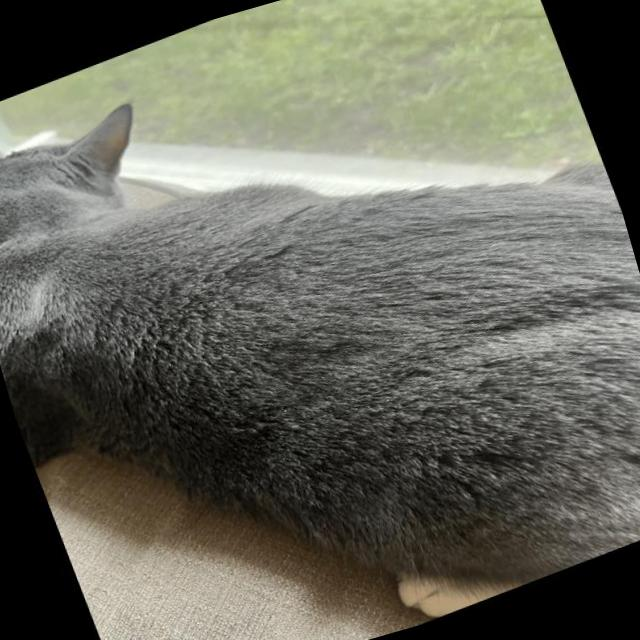Healthy skin: (298, 198, 640, 513), (19, 198, 255, 384), (162, 335, 340, 494), (245, 191, 358, 305), (0, 157, 81, 253)
